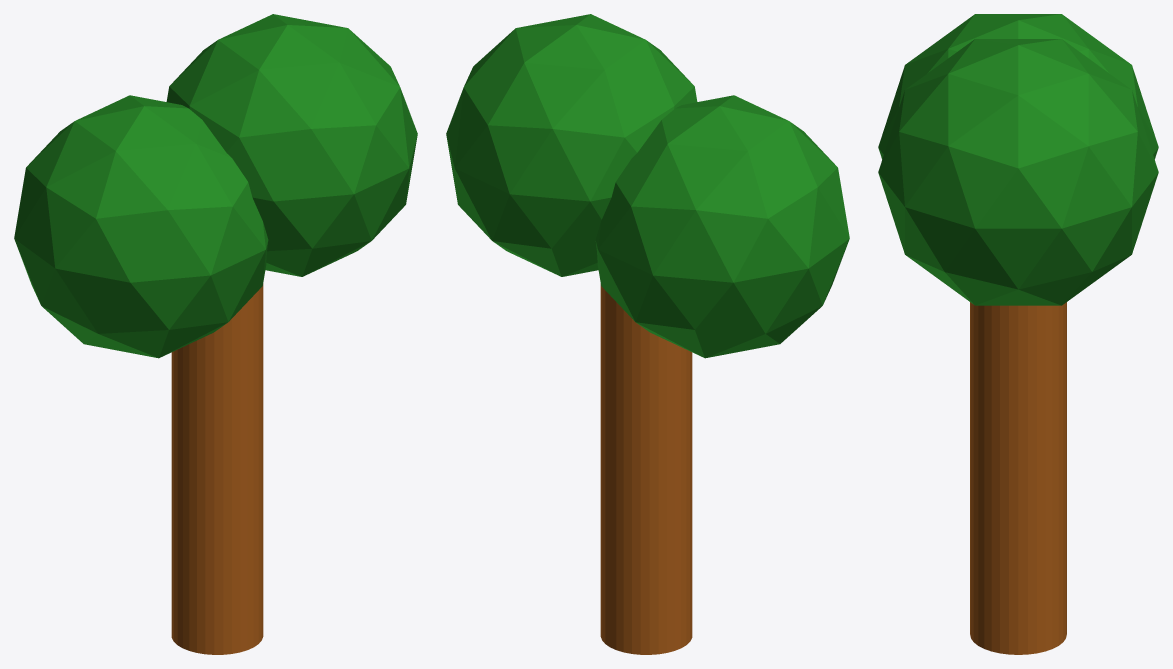
The model's file is medium.glb.
The picture shows the model from 3 angles, left to right: view 1: azimuth 30°, elevation 25°; view 2: azimuth 150°, elevation 25°; view 3: azimuth 270°, elevation 25°; orthographic projection. The views are drawn at different scales.
Visible parts, largest first — view 1: medium; view 2: medium; view 3: medium.
Part boxes in pixels (left/top/right/bottom): medium: left=14, top=14, right=417, bottom=654; medium: left=446, top=14, right=849, bottom=654; medium: left=878, top=14, right=1158, bottom=654.
Size of the model in its own units: 1.42 by 2.23 by 0.9046.
